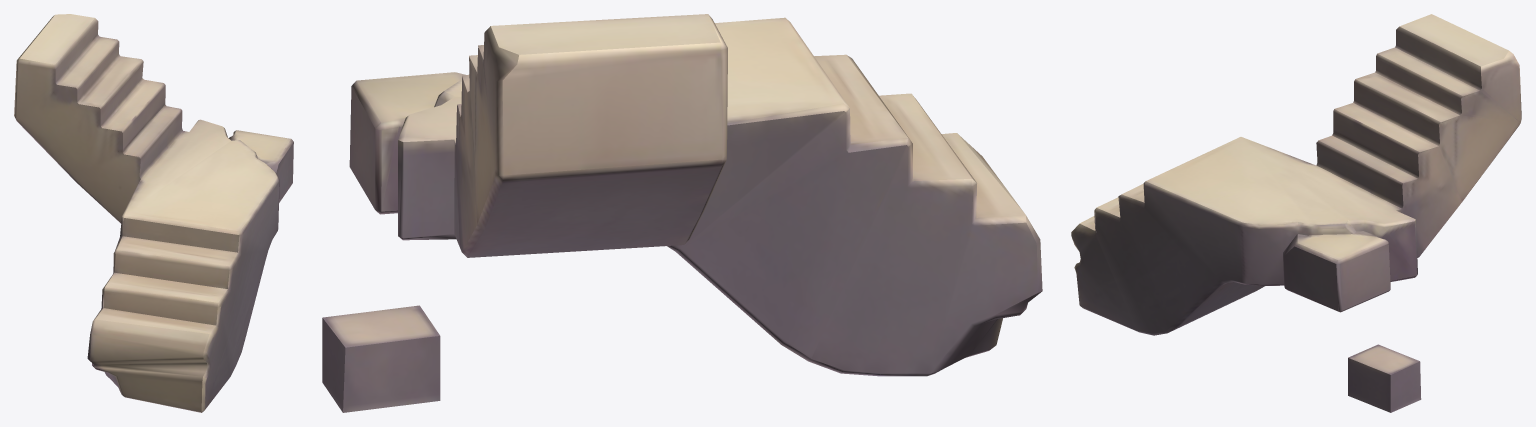
Rendered from SM_RuinStairs_01.fbx.
3 renders of one model, left to right at view 1: azimuth 30°, elevation 25°; view 2: azimuth 150°, elevation 25°; view 3: azimuth 270°, elevation 25°, orthographic. The views are drawn at different scales.
Visible parts, largest first — view 1: SM_RuinStairs_01; view 2: SM_RuinStairs_01; view 3: SM_RuinStairs_01.
Boxes of the visible parts, x1,y1,x2,y2 form: SM_RuinStairs_01: (14, 14, 293, 412); SM_RuinStairs_01: (322, 14, 1042, 412); SM_RuinStairs_01: (1071, 14, 1521, 412).
Bounding box in the file's own units: 62.09 × 52.81 × 76.72.
1 material, 1 textured.
